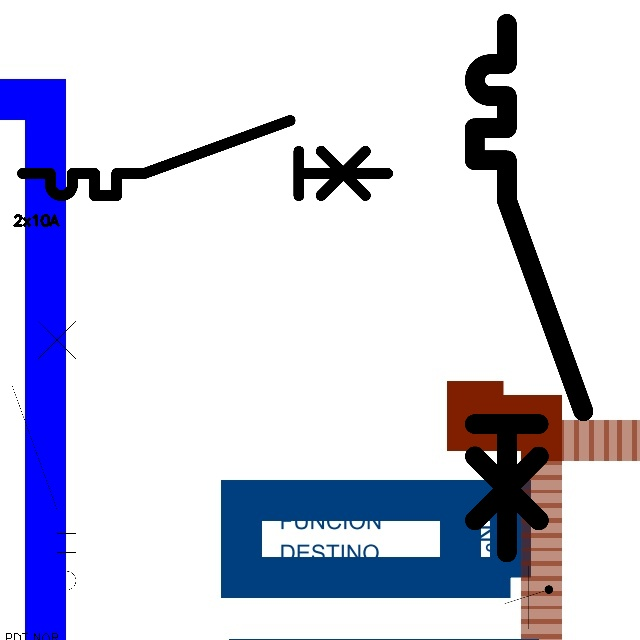interruptor_termomagnetico: (461, 10, 597, 566), (13, 111, 397, 205), (4, 294, 84, 622)
